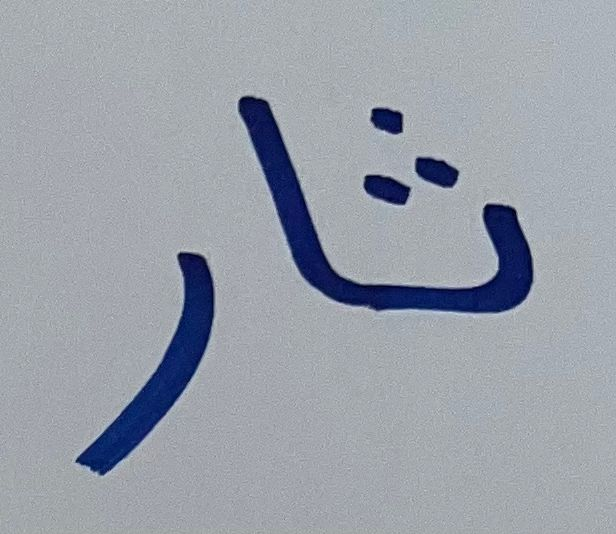alef: (230, 64, 345, 343)
noon: (352, 83, 549, 357)
reh: (52, 203, 219, 478)
